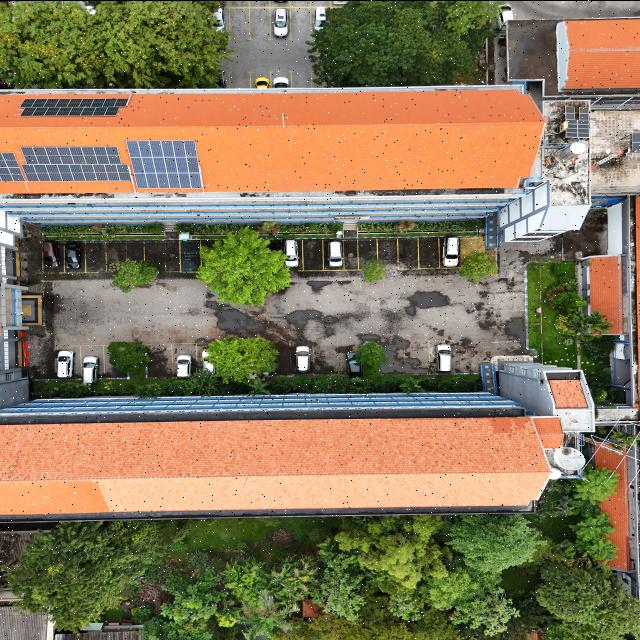Tree: (194, 224, 302, 308), (199, 332, 283, 388), (106, 252, 170, 294), (568, 466, 624, 504), (563, 512, 619, 546), (349, 338, 391, 372)
